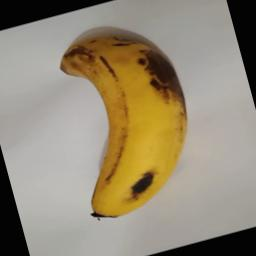Banana Unripe: (47, 18, 212, 228)
